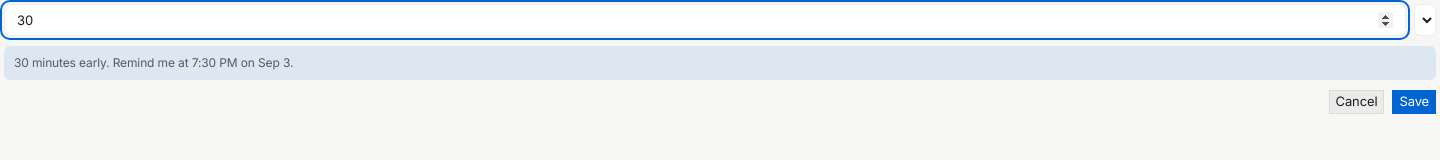
Test case: the preview (§6.4) › refuses a count that is not a whole number of anything
Clear the number field named "How many". click: (705, 20)
box: 4,4 -> 1406,36
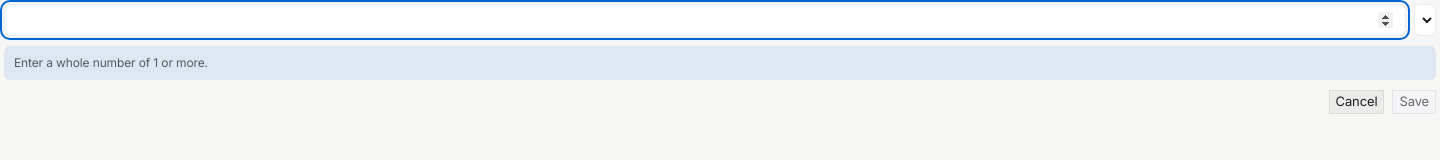
Expected: the button "Save" is disabled, 1392,90 -> 1436,114
Expected: the text "Enter a whole number of 1 or more." is shown, 4,46 -> 1436,80
